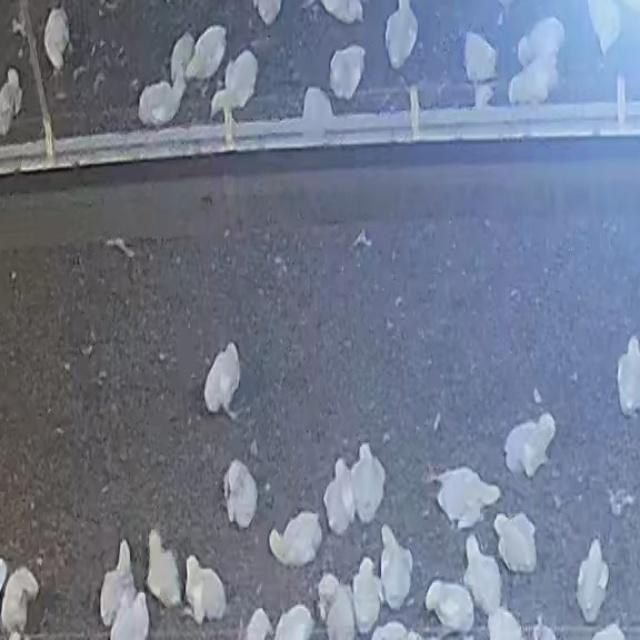chicken: (508, 16, 568, 105), (431, 466, 501, 530), (202, 340, 244, 423), (503, 413, 555, 479), (211, 50, 259, 119), (463, 535, 502, 613), (268, 514, 324, 568), (185, 555, 228, 624), (349, 442, 385, 524), (101, 539, 135, 625), (146, 530, 182, 610), (574, 538, 608, 622), (462, 31, 499, 108), (379, 527, 413, 609), (425, 578, 474, 634), (1, 566, 40, 635), (222, 457, 258, 530), (134, 77, 187, 126), (493, 512, 536, 572), (185, 25, 228, 82), (384, 0, 418, 71), (323, 461, 354, 535), (320, 579, 357, 639), (352, 560, 382, 632), (521, 16, 566, 64), (328, 44, 366, 100), (210, 80, 242, 144), (587, 0, 621, 57), (110, 590, 149, 639), (617, 336, 640, 416), (43, 7, 71, 72), (273, 604, 316, 640), (301, 87, 333, 135), (0, 68, 23, 134), (171, 31, 194, 86), (318, 0, 364, 24), (487, 608, 523, 638), (243, 605, 272, 640), (255, 0, 282, 25)
